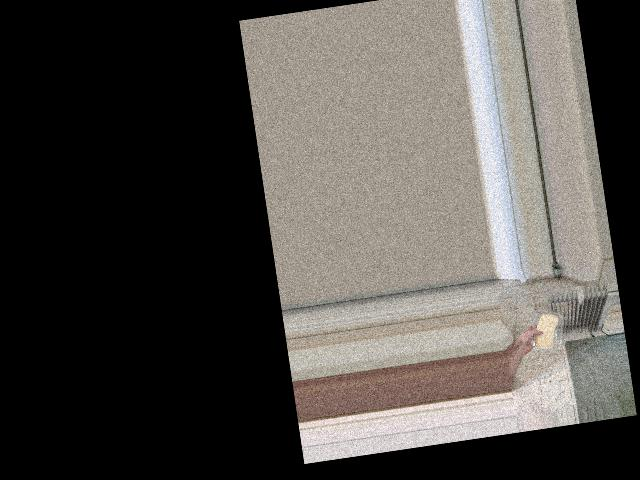cheese: (529, 308, 563, 352)
